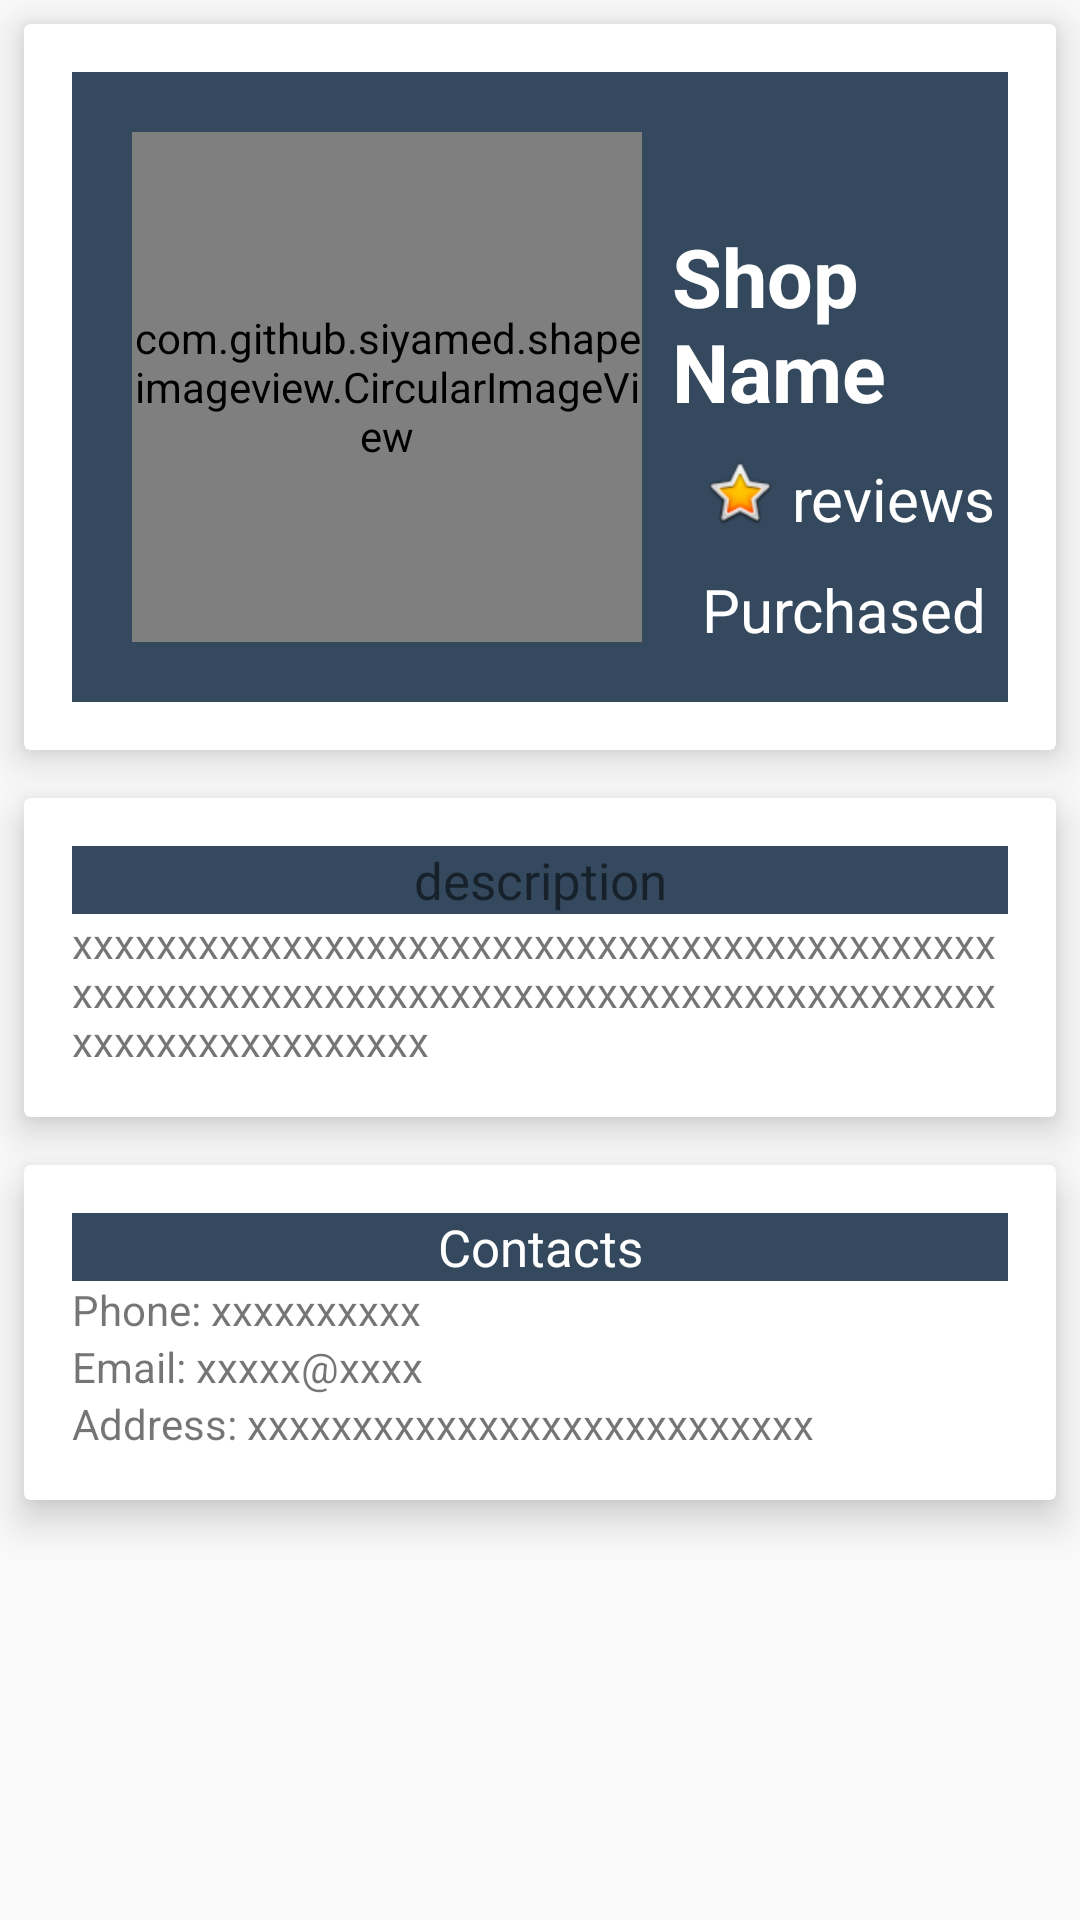

Icon bounding boxes for this 1080 x 1920 phone screenshot, format (x1,y1,x2,y2):
star on: (711,464,770,523)
